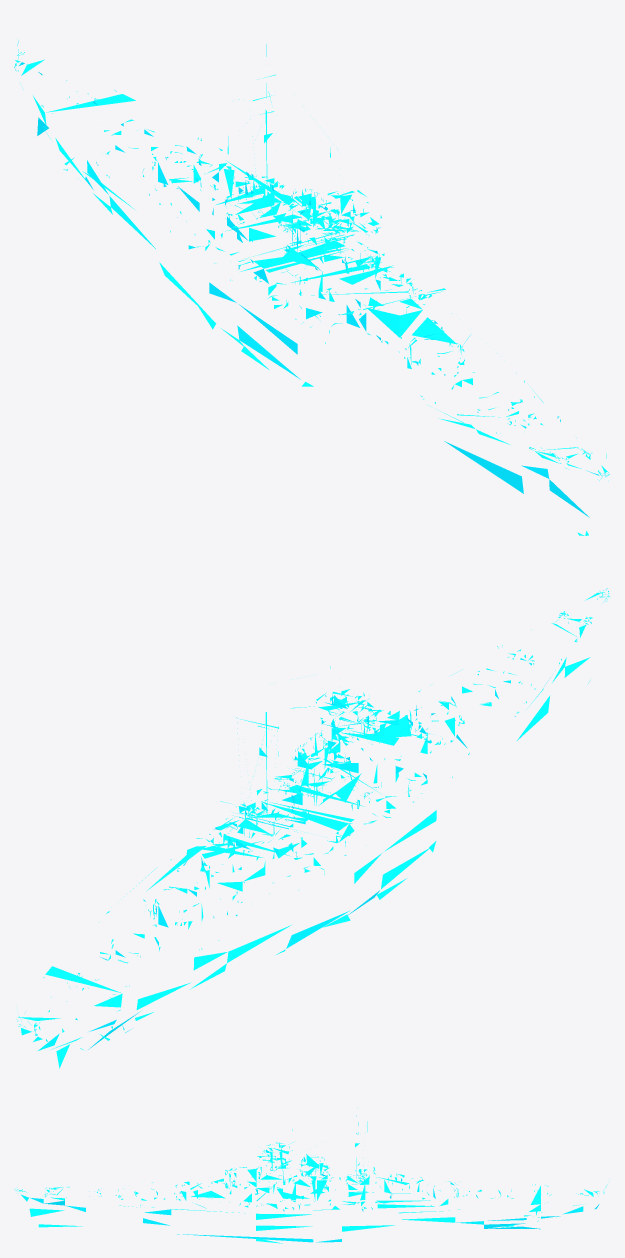
The model's file is Hunt_Bismarck.glb.
3 views of the same model, one above another, from view 1: azimuth 30°, elevation 25°; view 2: azimuth 150°, elevation 25°; view 3: azimuth 270°, elevation 25° (orthographic). The views are drawn at different scales.
Size of the model in its own units: 2.4 by 4.1 by 16.92.
